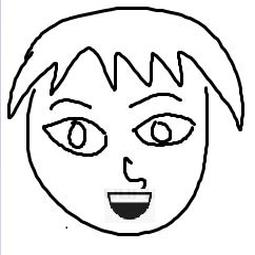eye: (37, 109, 108, 161), (130, 112, 197, 150)
eyebrow: (123, 86, 191, 109), (46, 93, 99, 113)
nose: (120, 154, 152, 191)
open_mouth: (106, 189, 154, 226)
